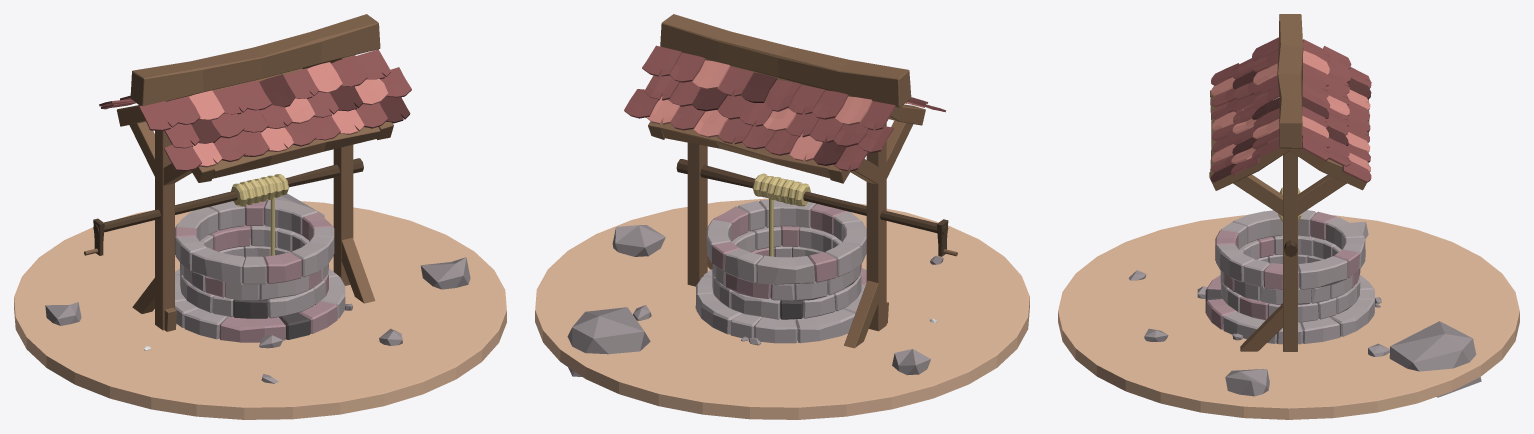
File: LowPolyWell.fbx
3 renders of one model, left to right at view 1: azimuth 30°, elevation 25°; view 2: azimuth 150°, elevation 25°; view 3: azimuth 270°, elevation 25°, orthographic. The views are drawn at different scales.
Parts seen in each view (by area): view 1: Cylinder.002, Plane.016, Cube.006, Cube.003, Cube, Cube.002, Cube.001, Cube.004, Cube.005, Cube.012, Cylinder, Cylinder.004 (+5 smaller); view 2: Cylinder.002, Plane.000, Cube.006, Cube.003, Cube, Cube.002, Cube.001, Cube.004, Icosphere.007, Cube.005, Cylinder, Cube.011 (+6 smaller); view 3: Cylinder.002, Plane.000, Plane.016, Cube.003, Cube, Cube.006, Cube.002, Icosphere.007, Cube.005, Cube.001, Icosphere.003, Cube.014 (+4 smaller).
Part boxes in pixels (left/top/right/bottom): Cylinder.002: left=14, top=201, right=506, bottom=419; Plane.016: left=139, top=49, right=411, bottom=171; Cube.006: left=130, top=14, right=380, bottom=106; Cube.003: left=175, top=199, right=334, bottom=284; Cube: left=175, top=268, right=345, bottom=342; Cube.002: left=180, top=224, right=328, bottom=300; Cube.001: left=180, top=239, right=328, bottom=318; Cube.004: left=155, top=130, right=174, bottom=330; Cube.005: left=333, top=58, right=353, bottom=285; Cube.012: left=212, top=127, right=380, bottom=178; Cylinder: left=93, top=158, right=363, bottom=233; Cylinder.004: left=231, top=174, right=288, bottom=206; Cylinder.002: left=535, top=198, right=1029, bottom=419; Plane.000: left=624, top=45, right=895, bottom=171; Cube.006: left=660, top=14, right=911, bottom=107; Cube.003: left=706, top=199, right=866, bottom=284; Cube: left=695, top=268, right=866, bottom=343; Cube.002: left=712, top=226, right=861, bottom=300; Cube.001: left=712, top=245, right=861, bottom=319; Cube.004: left=866, top=123, right=886, bottom=331; Icosphere.007: left=567, top=307, right=650, bottom=376; Cube.005: left=687, top=59, right=707, bottom=286; Cylinder: left=676, top=159, right=948, bottom=234; Cube.011: left=661, top=123, right=829, bottom=178; Cylinder.002: left=1058, top=215, right=1519, bottom=419; Plane.000: left=1302, top=39, right=1371, bottom=183; Plane.016: left=1210, top=37, right=1279, bottom=182; Cube.003: left=1215, top=210, right=1365, bottom=289; Cube: left=1205, top=274, right=1374, bottom=344; Cube.006: left=1277, top=14, right=1303, bottom=148; Cube.002: left=1220, top=234, right=1360, bottom=304; Icosphere.007: left=1389, top=321, right=1481, bottom=397; Cube.005: left=1283, top=151, right=1297, bottom=351; Cube.001: left=1220, top=254, right=1360, bottom=322; Icosphere.003: left=1225, top=369, right=1269, bottom=396; Cube.014: left=1233, top=174, right=1282, bottom=215.
Size of the model in its own units: 4237 by 2680 by 4237.
